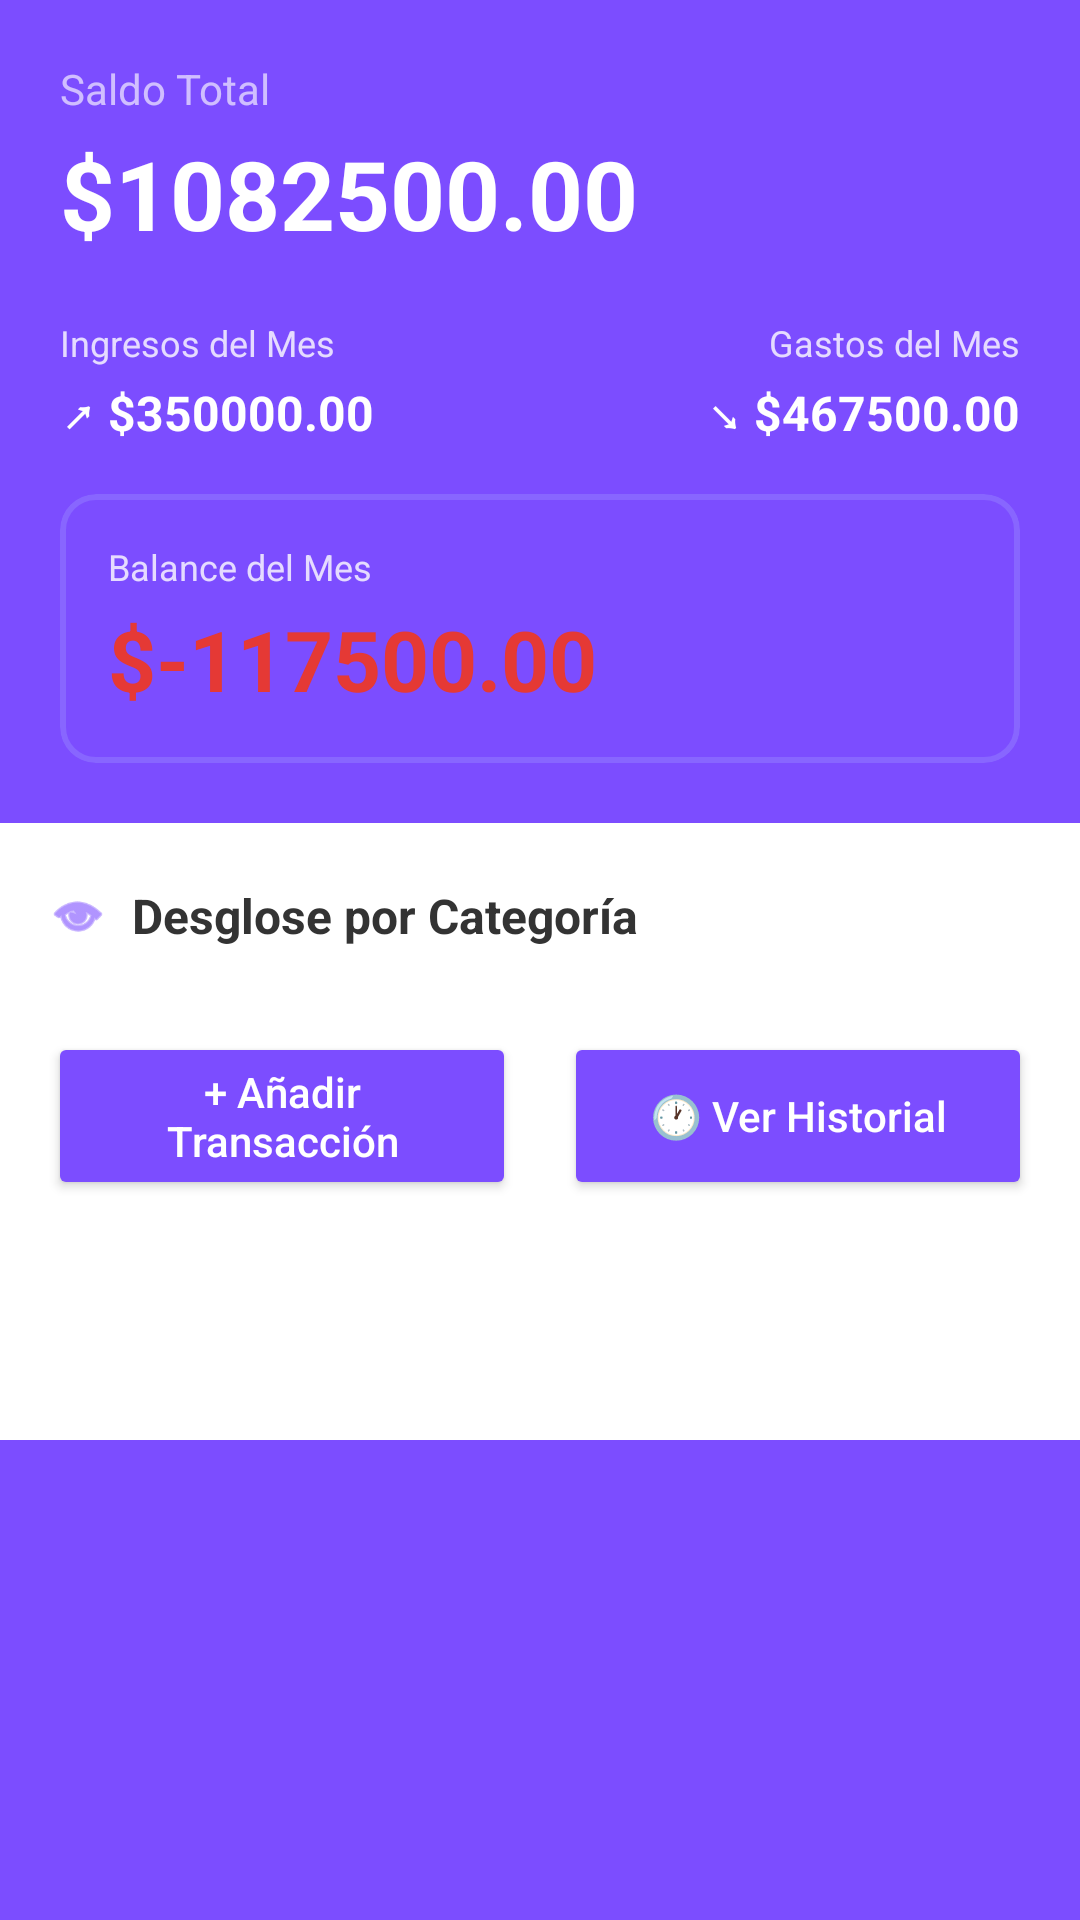

Named icons in this screenshot (1080*1920) and their bounding boxes, (x1, y1, x2, y2):
view: (54, 901, 102, 932)
